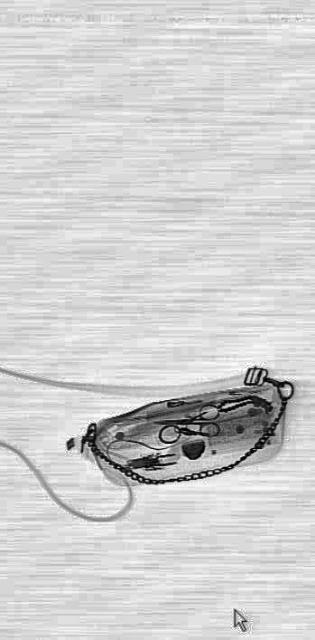Scissors: (152, 400, 220, 440)
